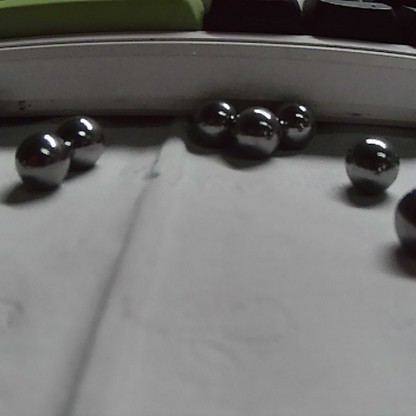ironball: (336, 121, 399, 197), (181, 81, 236, 148), (225, 101, 282, 161), (17, 119, 55, 201), (269, 99, 319, 150), (59, 113, 114, 159), (389, 186, 414, 234)
